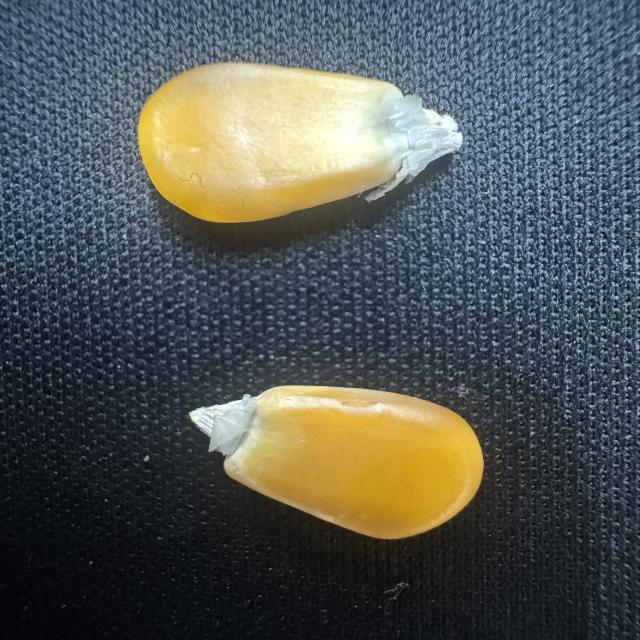Good-Seed: (132, 54, 470, 228), (185, 380, 490, 542)
